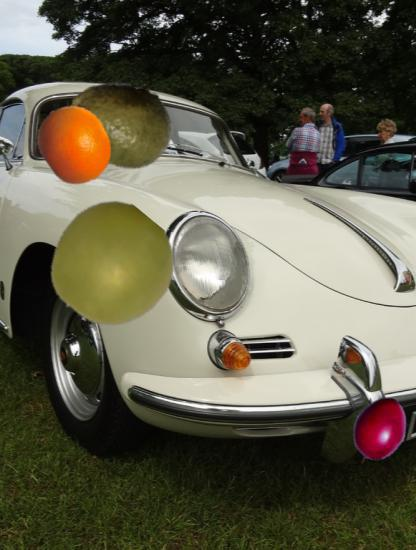Grape: (50, 204, 173, 327)
Grapefruit: (34, 104, 116, 186)
Guava: (66, 68, 176, 178)
Tamarillo: (343, 396, 415, 468)
